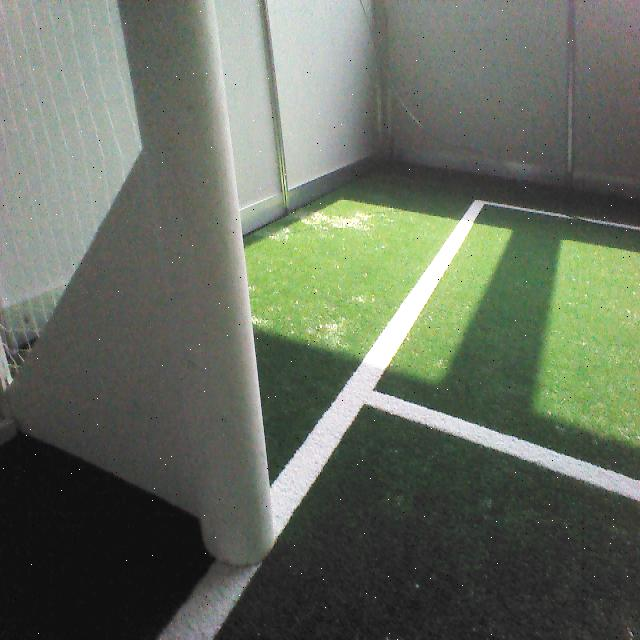goalpost: (118, 1, 276, 552)
